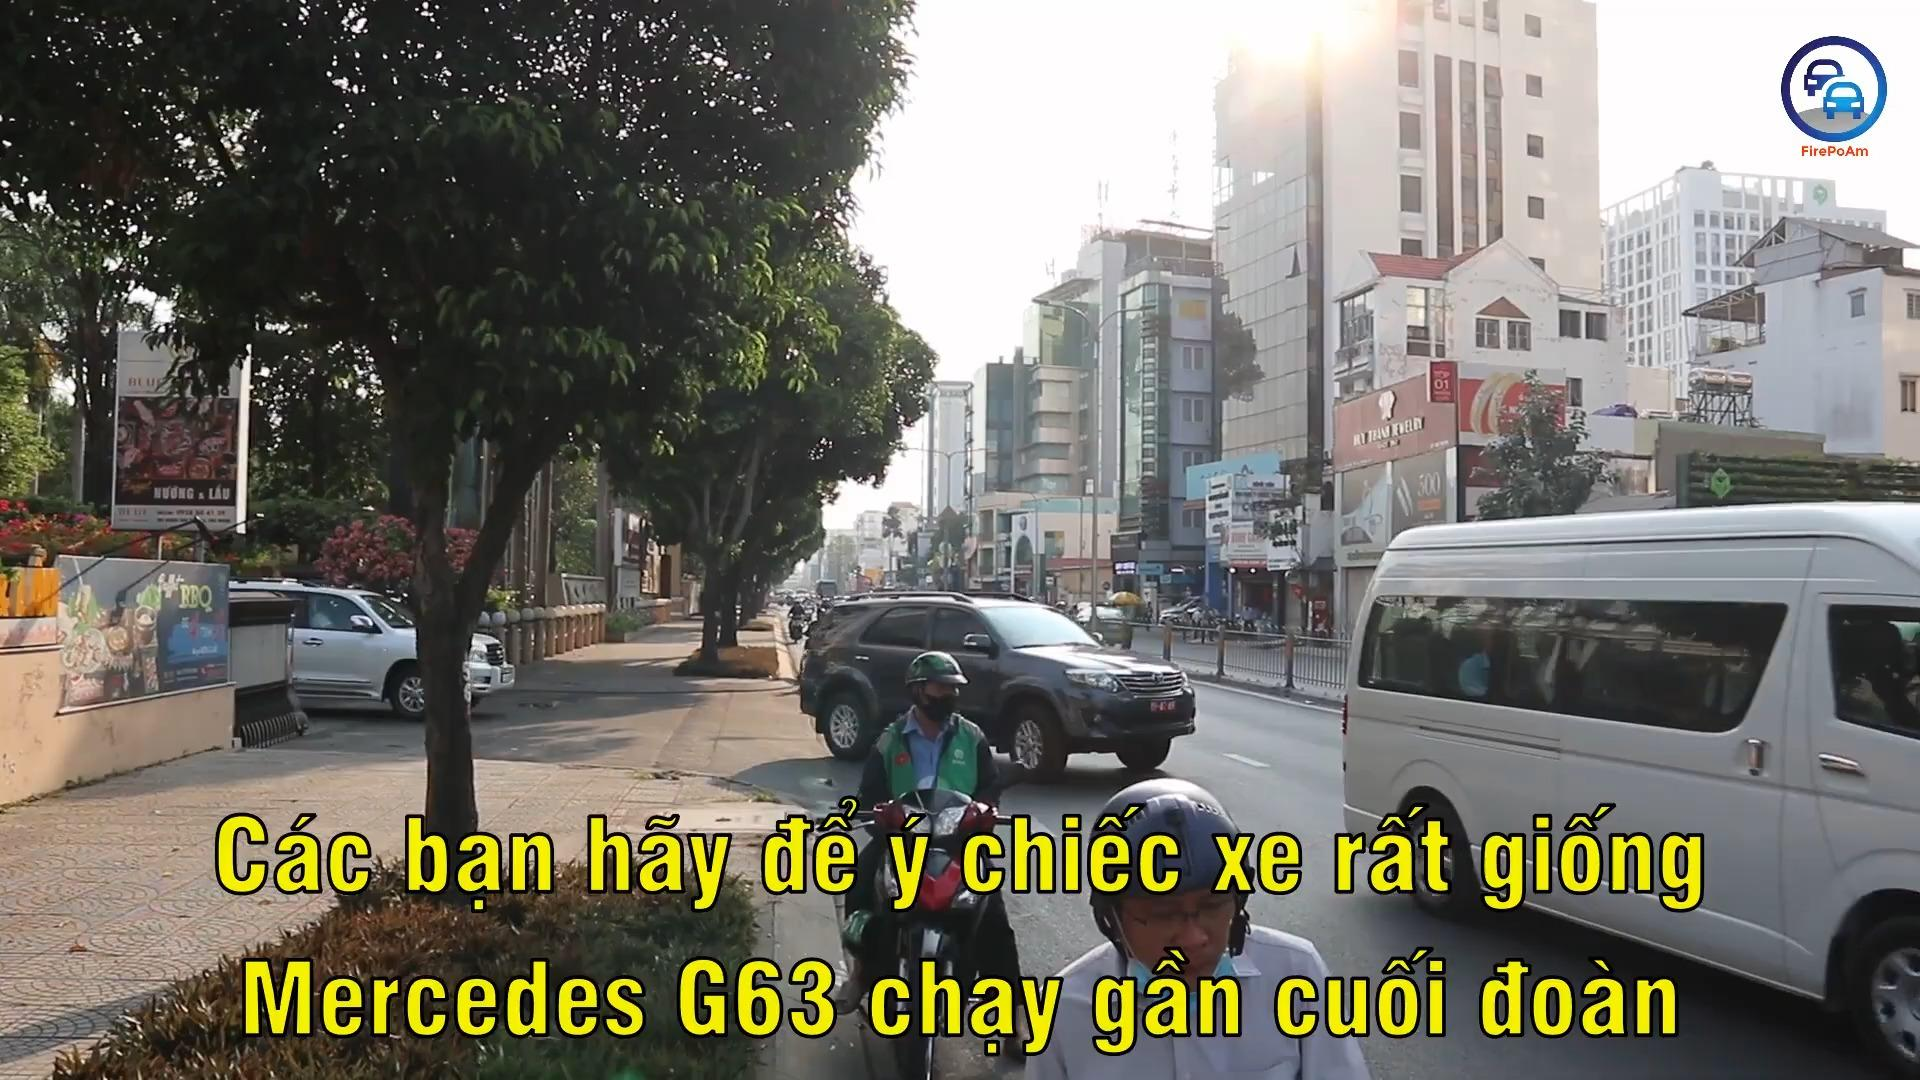bien_so: (1149, 697, 1178, 713)
